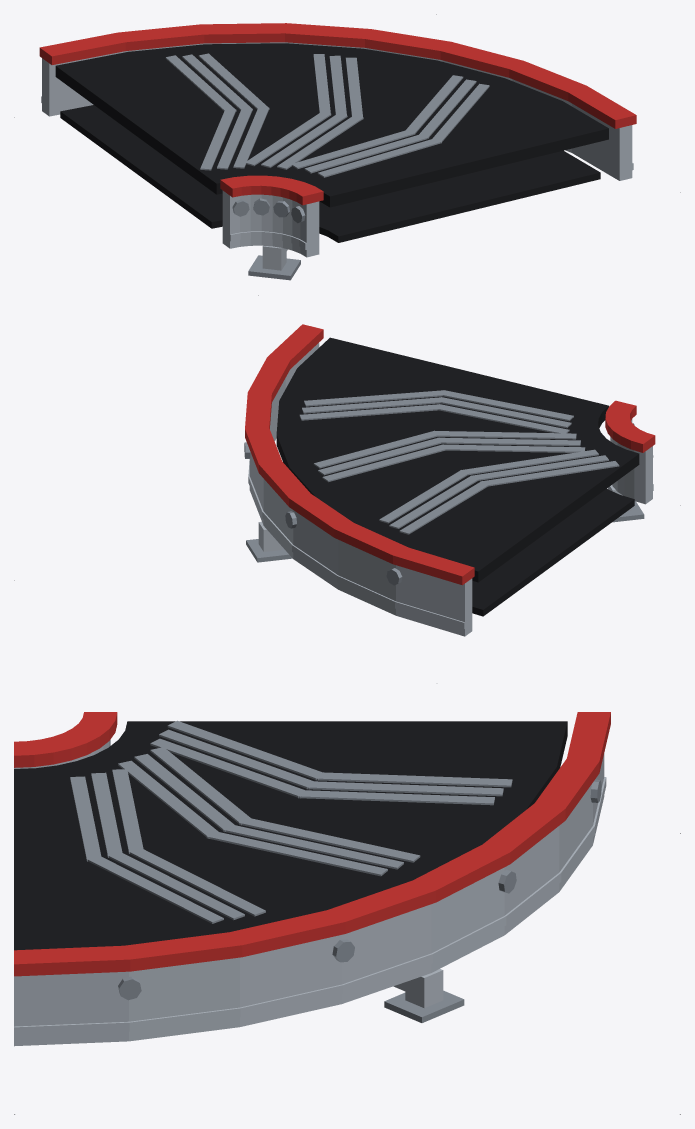
The model's file is convoyeur_virage_t3.glb.
The picture shows the model from 3 angles, top to bottom: view 1: azimuth 30°, elevation 25°; view 2: azimuth 150°, elevation 25°; view 3: azimuth 270°, elevation 25°; orthographic projection. The views are drawn at different scales.
Parts seen in each view (by area): view 1: bande_porteuse.024, bande_retour.024, bande_acier.042, rive_1.024, longeron_1.024, longeron_-1.024, rive_-1.024, pieces_acier.048, nervure_-1.012, pieces_gris_clair.016; view 2: bande_porteuse.024, bande_acier.042, longeron_1.024, rive_1.024, bande_retour.024, nervure_1.012, rive_-1.024, longeron_-1.024, pieces_acier.048; view 3: bande_porteuse.024, longeron_1.024, bande_acier.042, rive_1.024, nervure_1.012, rive_-1.024, pieces_acier.048, pieces_gris_clair.016.
Part boxes in pixels (box(x1,y1,x2,y2)): bande_porteuse.024: box(55, 43, 608, 207); bande_retour.024: box(60, 105, 600, 242); bande_acier.042: box(165, 53, 489, 177); rive_1.024: box(39, 23, 636, 128); longeron_1.024: box(42, 42, 632, 180); longeron_-1.024: box(222, 190, 319, 257); rive_-1.024: box(220, 175, 323, 205); pieces_acier.048: box(232, 198, 305, 280); nervure_-1.012: box(230, 231, 307, 249); pieces_gris_clair.016: box(262, 245, 287, 270); bande_porteuse.024: box(276, 337, 639, 582); bande_acier.042: box(299, 390, 619, 534); longeron_1.024: box(249, 342, 472, 636); rive_1.024: box(245, 324, 474, 585); bande_retour.024: box(472, 488, 634, 616); nervure_1.012: box(248, 461, 465, 629); rive_-1.024: box(605, 400, 655, 452); longeron_-1.024: box(610, 419, 652, 504); pieces_acier.048: box(244, 423, 653, 585); bande_porteuse.024: box(14, 721, 567, 950); longeron_1.024: box(14, 753, 604, 1046); bande_acier.042: box(70, 720, 512, 923); rive_1.024: box(14, 712, 610, 976); nervure_1.012: box(14, 777, 606, 1036); rive_-1.024: box(14, 712, 117, 767); pieces_acier.048: box(118, 779, 601, 1022); pieces_gris_clair.016: box(393, 969, 443, 1008).
Bounding box in the file's own units: 1 × 0.2 × 1.
